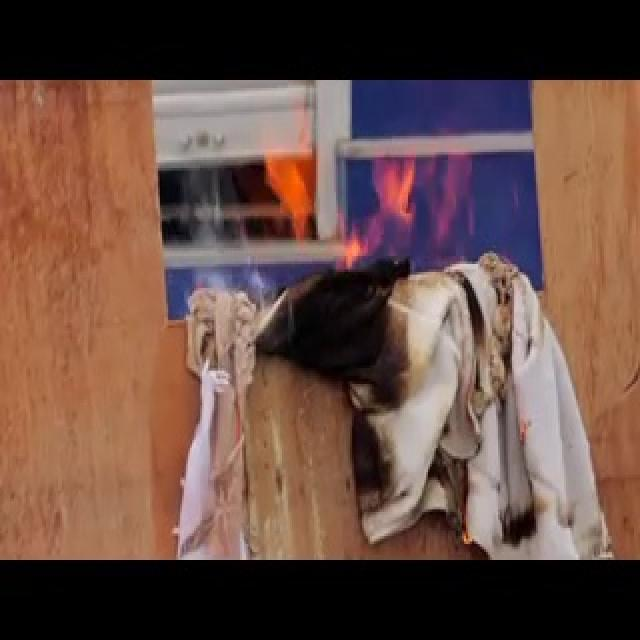Fire: (250, 82, 498, 294)
